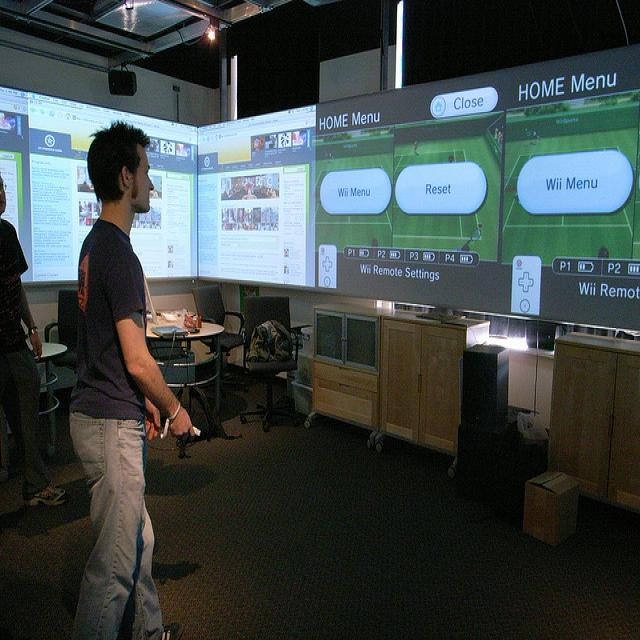chair: (242, 296, 313, 432), (193, 285, 244, 350), (44, 289, 79, 374)
dining table: (146, 310, 224, 413)
